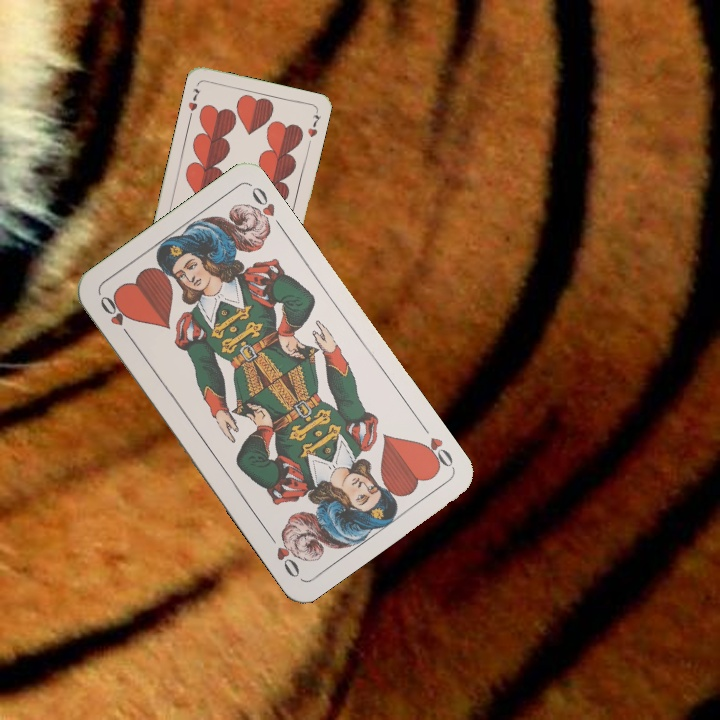H7: (184, 84, 203, 113)
HO: (415, 419, 456, 473), (95, 291, 135, 343)
